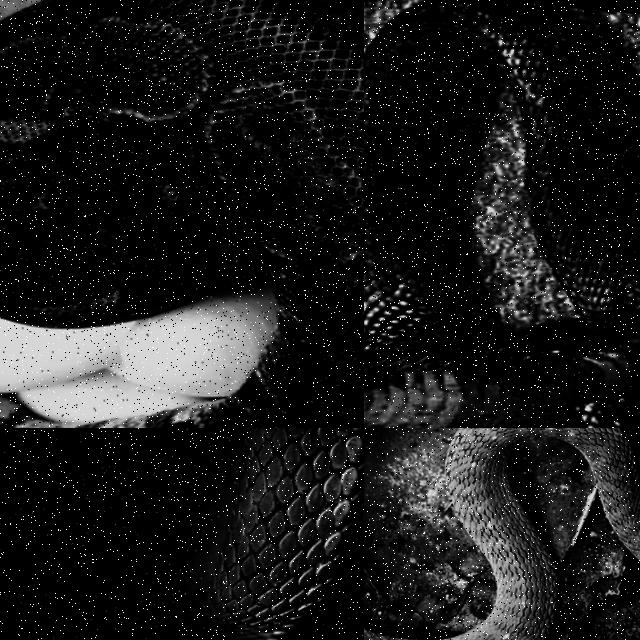Naja siamensis: (364, 0, 639, 427)
Python bivittatus: (0, 0, 363, 427)
Trimeresurus: (444, 428, 639, 639)
Trimeresurus macrops: (0, 428, 363, 639)
snake: (0, 0, 363, 427), (364, 0, 639, 427), (0, 428, 363, 639), (444, 428, 639, 639)
